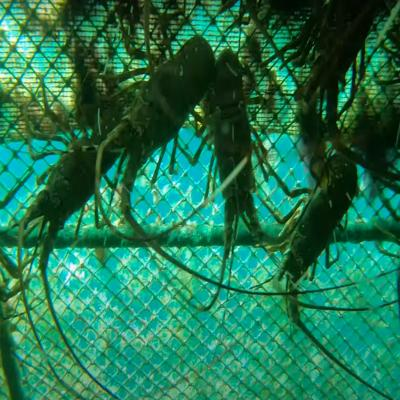lobster: (284, 165, 354, 289), (210, 62, 258, 238), (122, 52, 209, 146), (302, 4, 378, 102), (32, 142, 104, 217)
